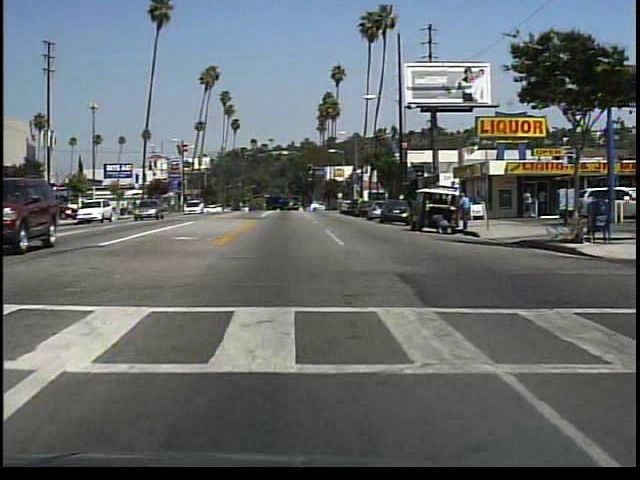person: (2, 193, 31, 225), (456, 189, 476, 235), (520, 187, 534, 224), (431, 213, 450, 236), (537, 187, 549, 218)
